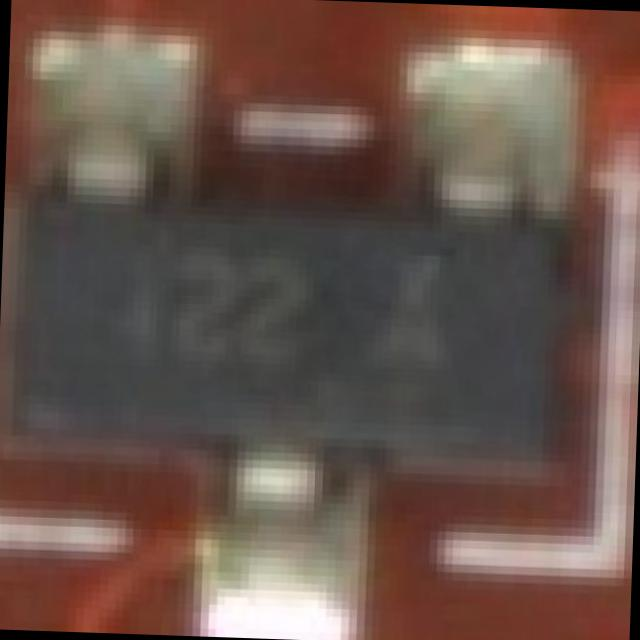transistor: (6, 15, 604, 611)
